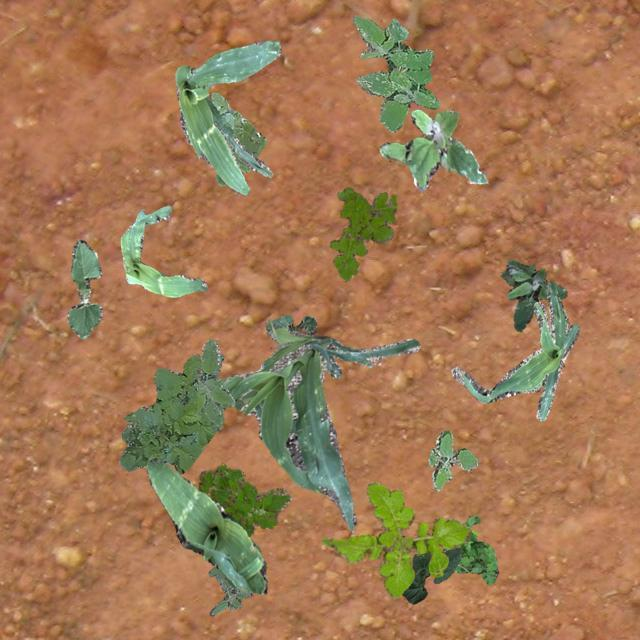crop: (222, 318, 418, 532), (450, 280, 578, 420), (173, 40, 280, 194), (144, 458, 266, 592), (120, 205, 206, 296), (66, 238, 102, 338), (400, 548, 460, 602), (270, 314, 316, 334)
weed: (320, 481, 470, 598), (119, 352, 224, 472), (352, 13, 438, 132), (378, 108, 486, 190), (198, 464, 290, 536), (330, 187, 396, 280), (210, 92, 266, 185), (500, 258, 564, 330), (196, 338, 233, 430), (453, 514, 498, 584), (428, 430, 478, 490), (208, 566, 252, 614)
